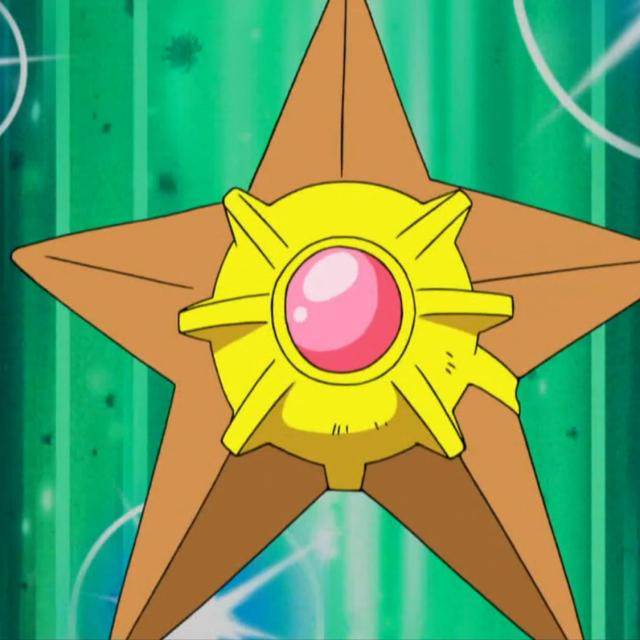Staryu: (10, 0, 640, 640)
